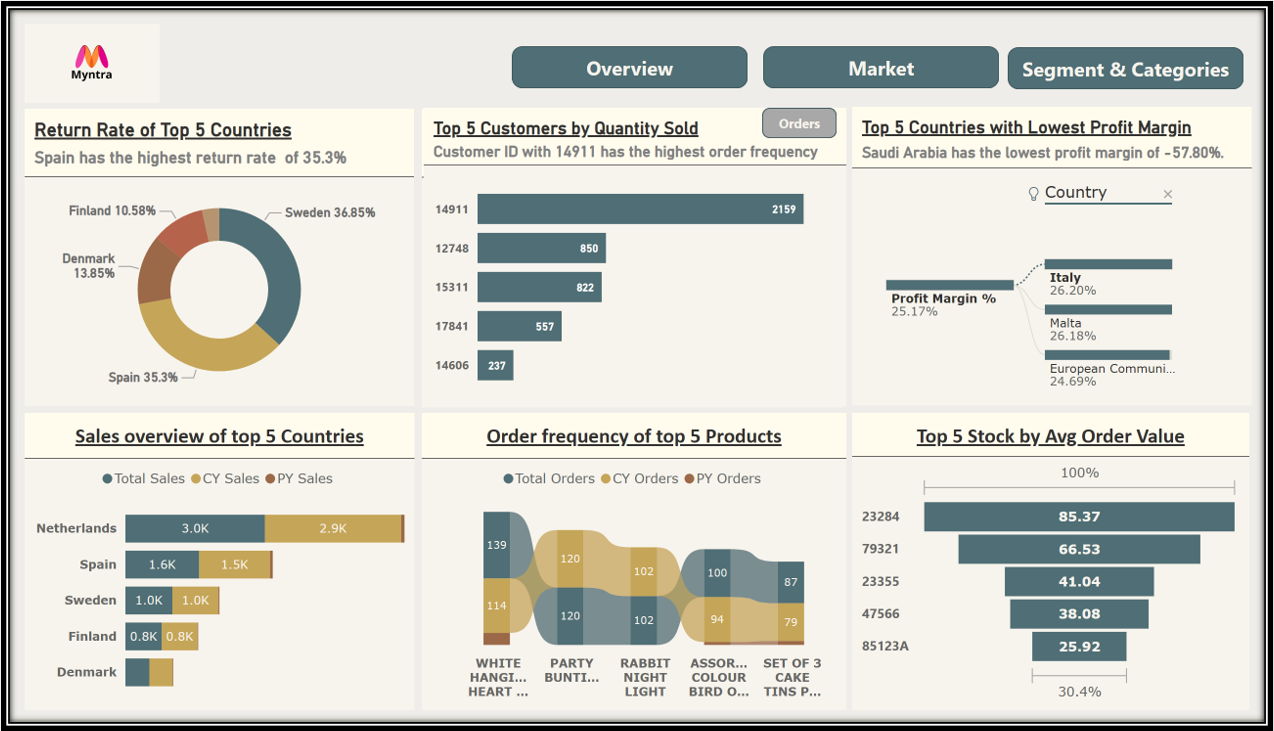

The dashboard page shown, as its layout file describes it:
{"tool":"powerbi","page":{"name":"Segment & Categories","canvas":[1280,720],"ordinal":2},"visuals":[{"type":"donutChart","title":"Return Rate of Top 5 Countries","fields":{"Category":["Dim Customer.Country"],"Y":["Measure Table.Return Rate %"]},"box":[15.3,96,397.9,304],"z":0},{"type":"decompositionTreeVisual","title":"Top 5 Countries with Lowest Profit Margin","fields":{"ExplainBy":["Dim Customer.Country"],"Analyze":["Measure Table.Profit Margin %"]},"box":[861.5,95.6,408.4,305.4],"z":1000},{"type":"clusteredBarChart","title":"Top 5 Customers with Highest Orders ","fields":{"Category":["Dim Customer.CustomerID"],"Y":["Measure Table.Top 5 Customers with Highest Orders"]},"box":[420.8,95.6,430.7,305.4],"z":2000},{"type":"clusteredBarChart","title":"Top 5 Customers by  Quantity Sold","fields":{"Category":["Dim Customer.CustomerID"],"Y":["Measure Table.Top 5 Customers in terms Purchasing capacity"]},"box":[422.5,95.2,432,304.8],"z":3000},{"type":"barChart","title":"Sales overview of top 5 Countries","fields":{"Category":["Dim Customer.Country"],"Y":["Measure Table.Total Sales","Measure Table.CY Sales","Measure Table.PY Sales"]},"box":[14.9,407.1,398.5,304.1],"z":4000},{"type":"ribbonChart","title":"Order frequency of top 5 Products","fields":{"Category":["Dim Product.Description"],"Y":["Measure Table.Total Orders","Measure Table.CY Orders","Measure Table.PY Orders"]},"box":[420.8,407.1,434,304.1],"z":5000},{"type":"funnel","title":"Top 5 Stock by Avg Order Value","fields":{"Category":["Dim Product.StockCode"],"Y":["Measure Table.AOV"]},"box":[861.5,407.1,405.9,304.1],"z":6000},{"type":"shape","box":[510.8,40.6,241.2,43.1],"z":7000},{"type":"shape","box":[768,40.6,241.2,43.1],"z":8000},{"type":"shape","box":[1017.8,41.8,241.2,43.1],"z":9000},{"type":"image","box":[14.9,8.7,137.8,81],"z":10000},{"type":"shape","box":[768.8,95.2,76.2,31.2],"z":12000}]}

Visuals, with their boxes in screenshot pixels (x1, y1, x2, y2), scaled from the page's 1280x720 canvas onto the 1274x731 screenshot:
"Return Rate of Top 5 Countries" donutChart: 15/97/411/406
"Top 5 Countries with Lowest Profit Margin" decompositionTreeVisual: 857/97/1264/407
"Top 5 Customers with Highest Orders " clusteredBarChart: 419/97/848/407
"Top 5 Customers by  Quantity Sold" clusteredBarChart: 421/97/850/406
"Sales overview of top 5 Countries" barChart: 15/413/411/722
"Order frequency of top 5 Products" ribbonChart: 419/413/851/722
"Top 5 Stock by Avg Order Value" funnel: 857/413/1261/722
shape: 508/41/748/85
shape: 764/41/1004/85
shape: 1013/42/1253/86
image: 15/9/152/91
shape: 765/97/841/128
